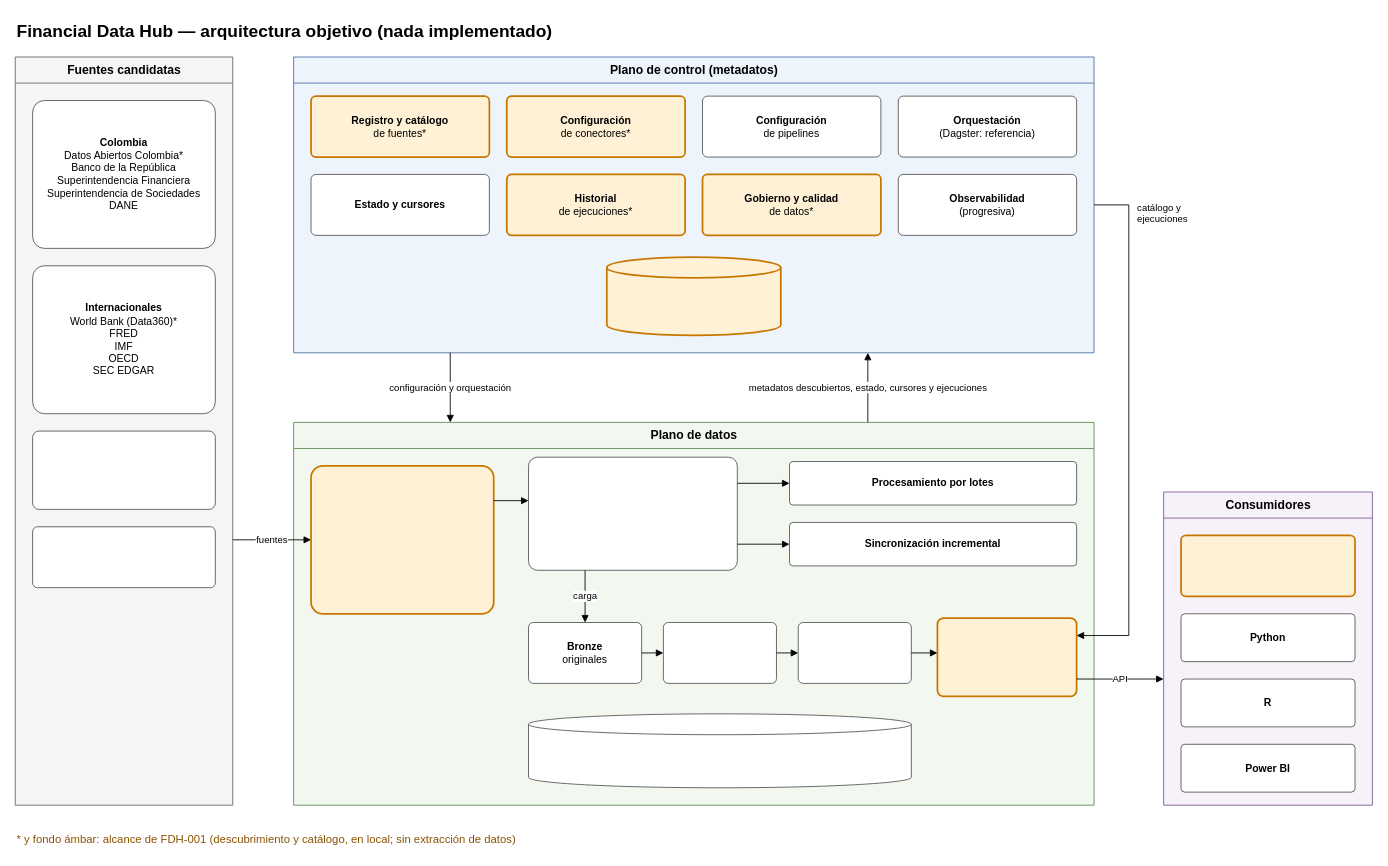
Some shapes in this 1388 by 866 pixel diagram are drawn without their labels. The shapes that lost their labels are listed below. From the top down, each one's centre as x and y in pixels, then its label:
At (x=693, y=296): "PostgreSQL metadatos y estado*".
At (x=123, y=469): "Mercados CoinGecko Yahoo Finance".
At (x=632, y=513): "Motor de extracción e integración (dlt: referencia)".
At (x=123, y=557): "Archivos CSV · Excel · Parquet".
At (x=402, y=539): "Framework de conectores* Socrata* REST SDMX Archivos Especializados (Data360*)".
At (x=1267, y=565): "Portal React* (apoyo de Lovable)".
At (x=719, y=652): "Silver normalizados".
At (x=854, y=652): "Gold productos y vistas".
At (x=1006, y=657): "Servicios de consulta y exportación FastAPI*".
At (x=719, y=750): "Parquet y almacenamiento de objetos (DuckDB por evaluar)".
